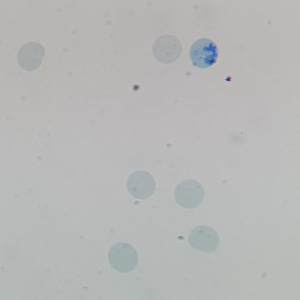aggregate reticulocyte: (188, 37, 219, 70)
erythrocyte: (106, 241, 140, 274), (15, 41, 47, 73), (125, 170, 158, 201)
punctate reticulocyte: (172, 178, 206, 210), (186, 224, 221, 254), (151, 34, 184, 65)
